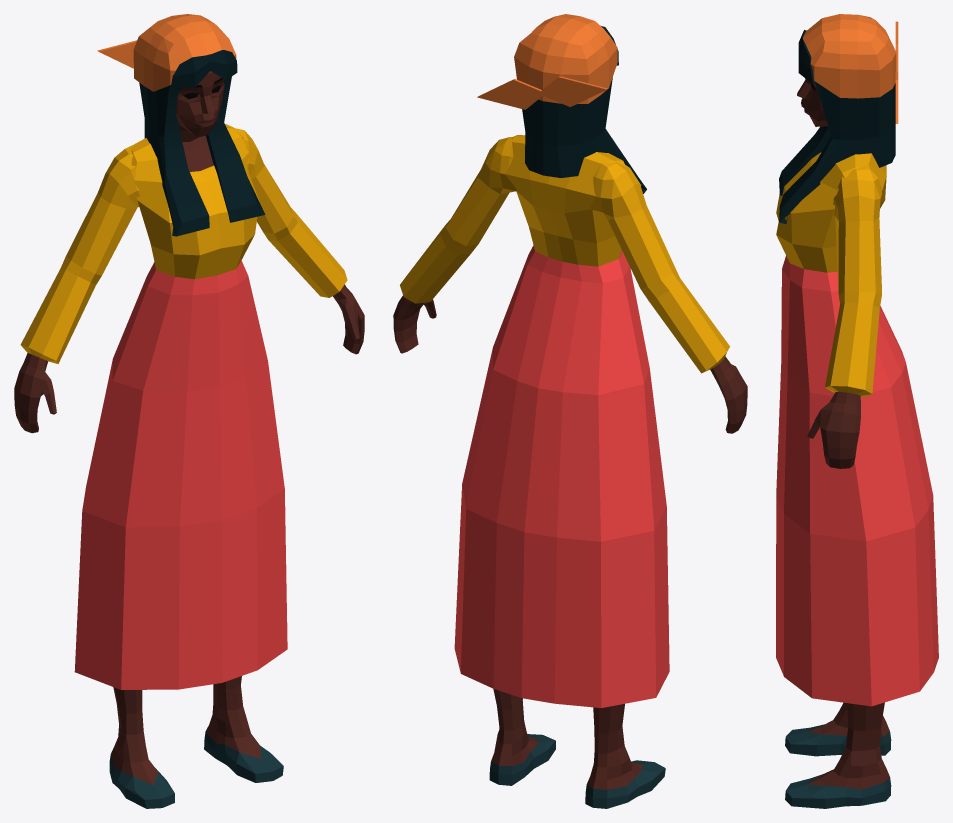
File: Female_02.FBX
3 views of the same model, side by side, from view 1: azimuth 30°, elevation 25°; view 2: azimuth 150°, elevation 25°; view 3: azimuth 270°, elevation 25° (orthographic).
Visible parts, largest first — view 1: Female_02; view 2: Female_02; view 3: Female_02.
Part boxes in pixels (x1,y1,x2,y2): Female_02: (14, 14, 364, 808); Female_02: (393, 14, 747, 808); Female_02: (776, 14, 938, 808).
Bounding box in the file's own units: 0.8204 × 1.73 × 0.3384.
Materials: 1 (1 with a texture image).
